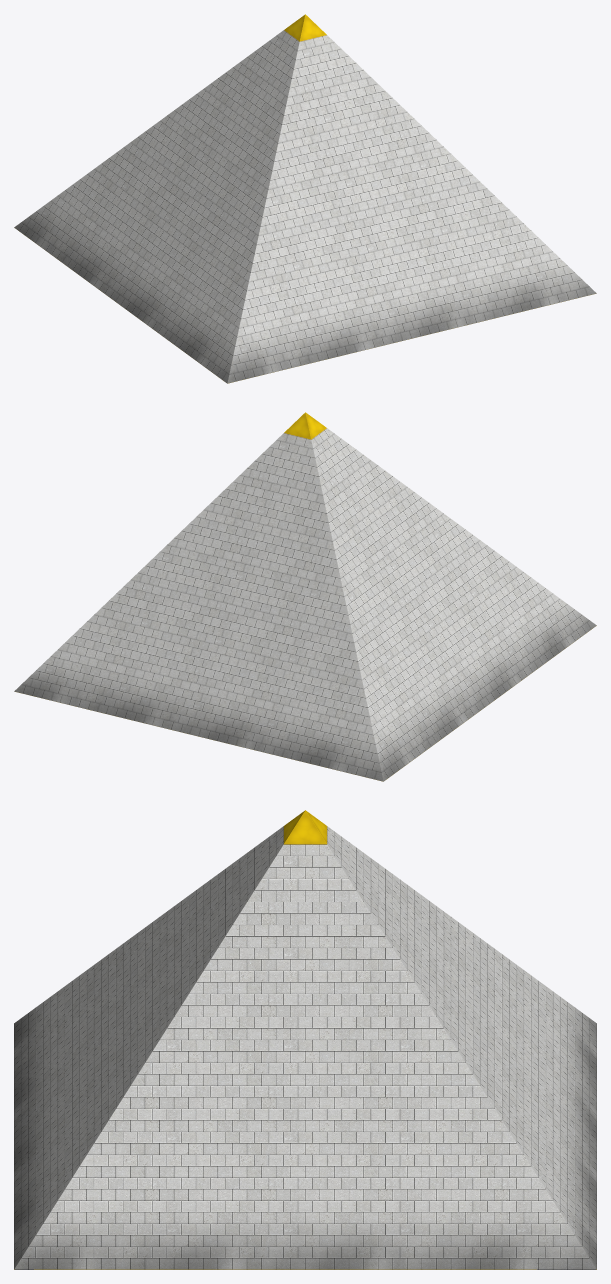
File: giza_pyramid_low-poly.glb
3 views of the same model, one above another, from view 1: azimuth 30°, elevation 25°; view 2: azimuth 150°, elevation 25°; view 3: azimuth 270°, elevation 25° (orthographic). The views are drawn at different scales.
Parts seen in each view (by area): view 1: Giza_Pyramid; view 2: Giza_Pyramid; view 3: Giza_Pyramid.
Boxes of the visible parts, x1=… form: Giza_Pyramid: x1=14, y1=14, x2=596, y2=383; Giza_Pyramid: x1=14, y1=412, x2=596, y2=781; Giza_Pyramid: x1=14, y1=810, x2=596, y2=1269.
Bounding box in the file's own units: 230 × 147 × 230.
Materials: 1 (1 with a texture image).
